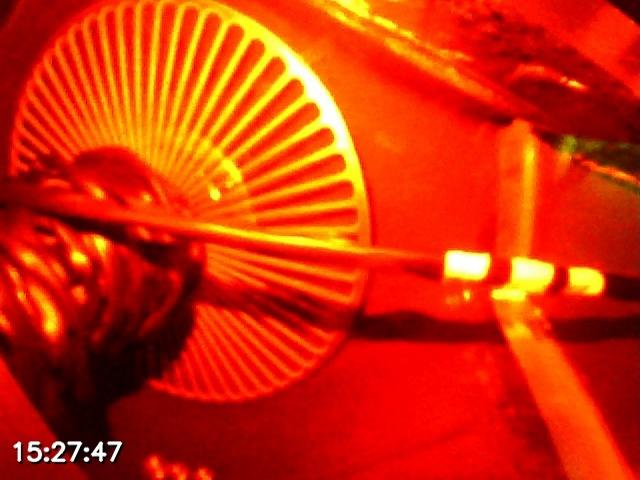white-dots: (442, 249, 605, 296)
